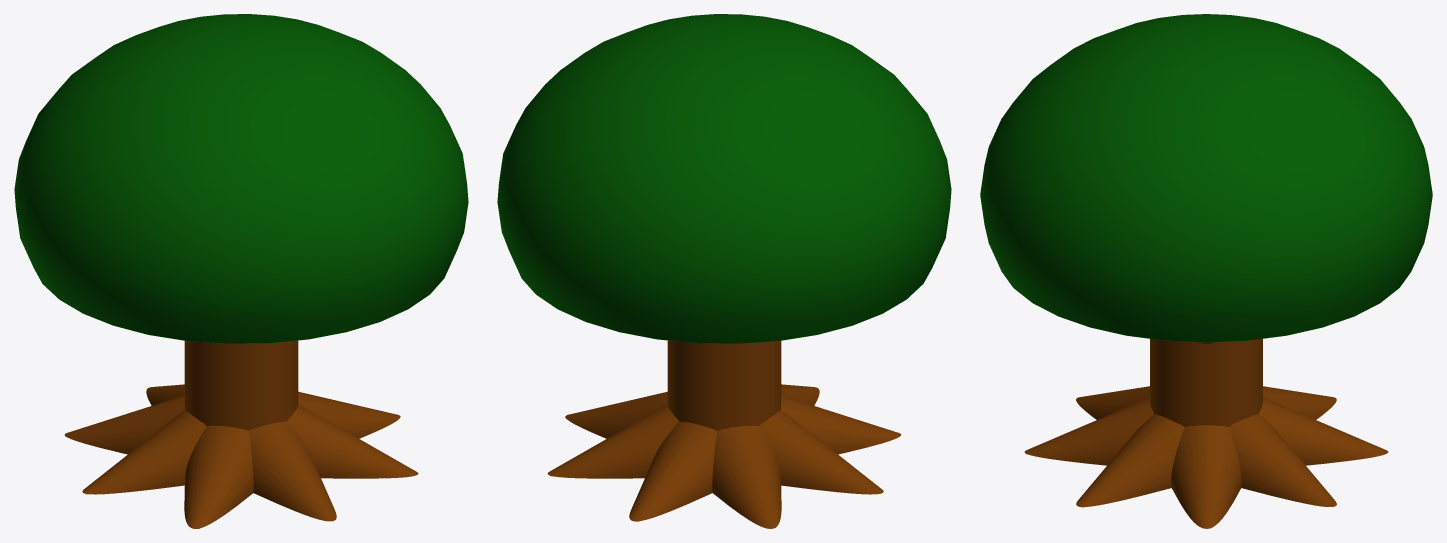
File: tree.dae
3 renders of one model, left to right at view 1: azimuth 30°, elevation 25°; view 2: azimuth 150°, elevation 25°; view 3: azimuth 270°, elevation 25°, orthographic.
Visible parts, largest first — view 1: tree; view 2: tree; view 3: tree.
Boxes of the visible parts, left/top/right/bottom form: tree: left=14, top=14, right=468, bottom=528; tree: left=497, top=14, right=951, bottom=528; tree: left=980, top=14, right=1432, bottom=528.
Bounding box in the file's own units: 4 × 4 × 4.01.
